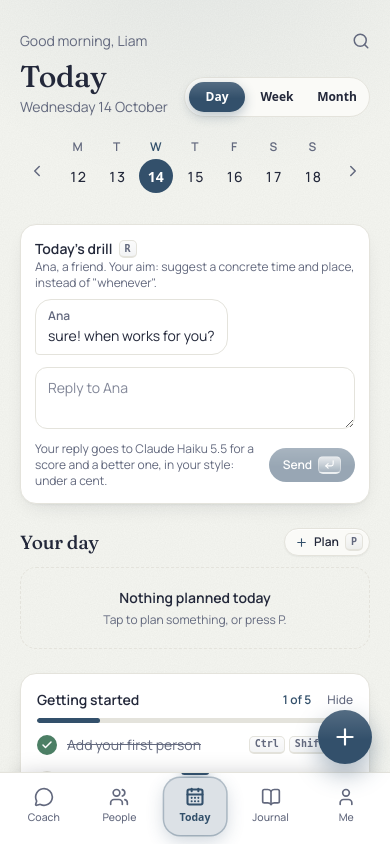
Test case: Analyse all new › sends each day with someone once with names hidden, marks tiny ones seen, and moves the chats on
Click the button "Coach" at (44, 807), box [6,781,82,832]
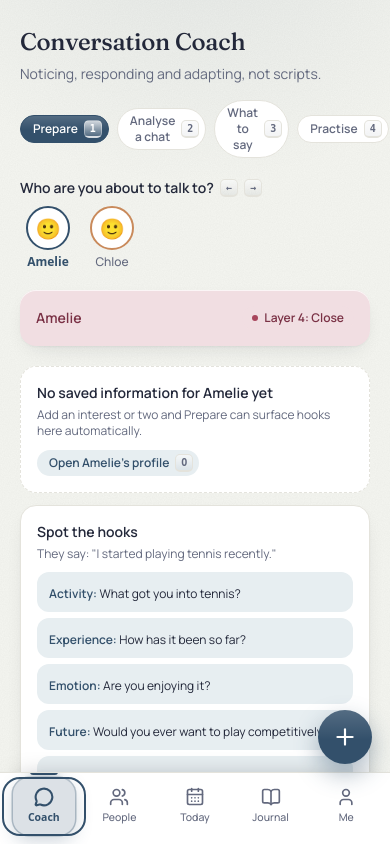
Click the button "Analyse a chat 2" at (162, 129), box [117,108,206,150]
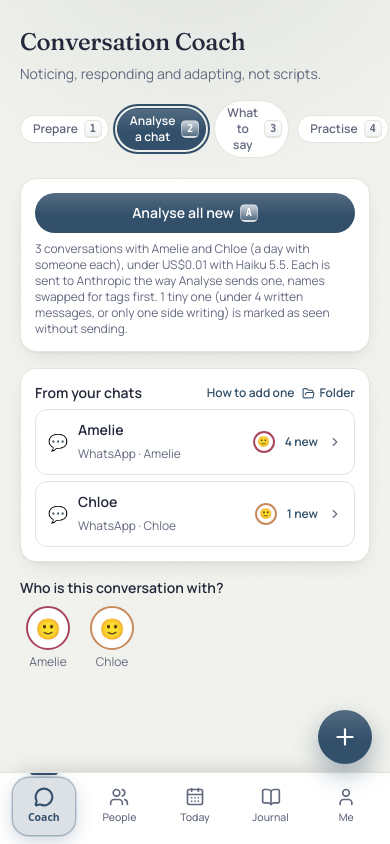
Expected: the element labelled "Analyse all new" shows "1 tiny one (under 4 written messages, or only one side writing) is marked as seen without sending", [35,288,330,337]
Type keys "a"
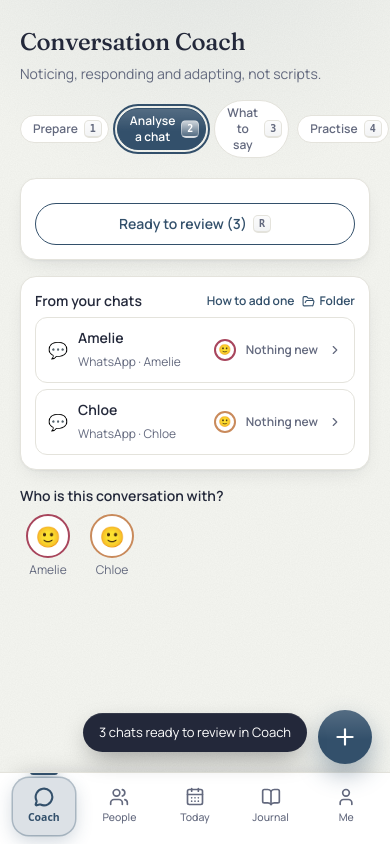
Expected: the button "💬 Amelie WhatsApp · Amelie 🙂 Nothing new" is shown, [36,318,354,382]
Expected: the button "Analyse all new" is gone
Expected: the button "Ready to review (3) R" is shown, [35,203,355,245]
